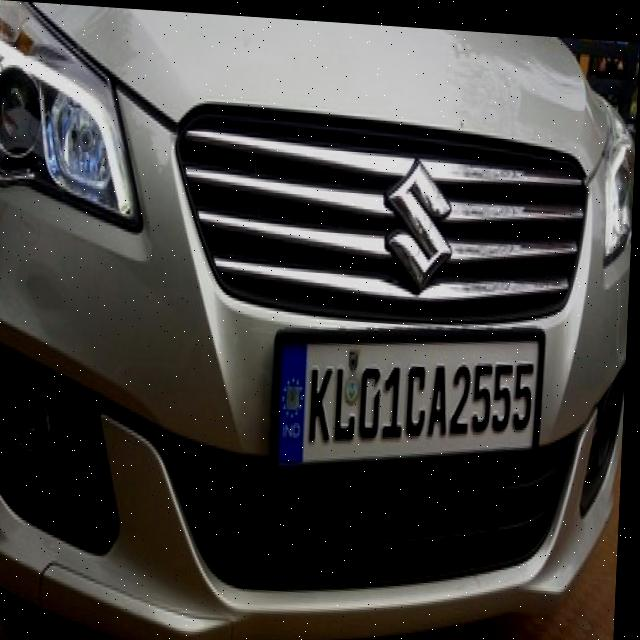plate: (271, 310, 548, 482)
